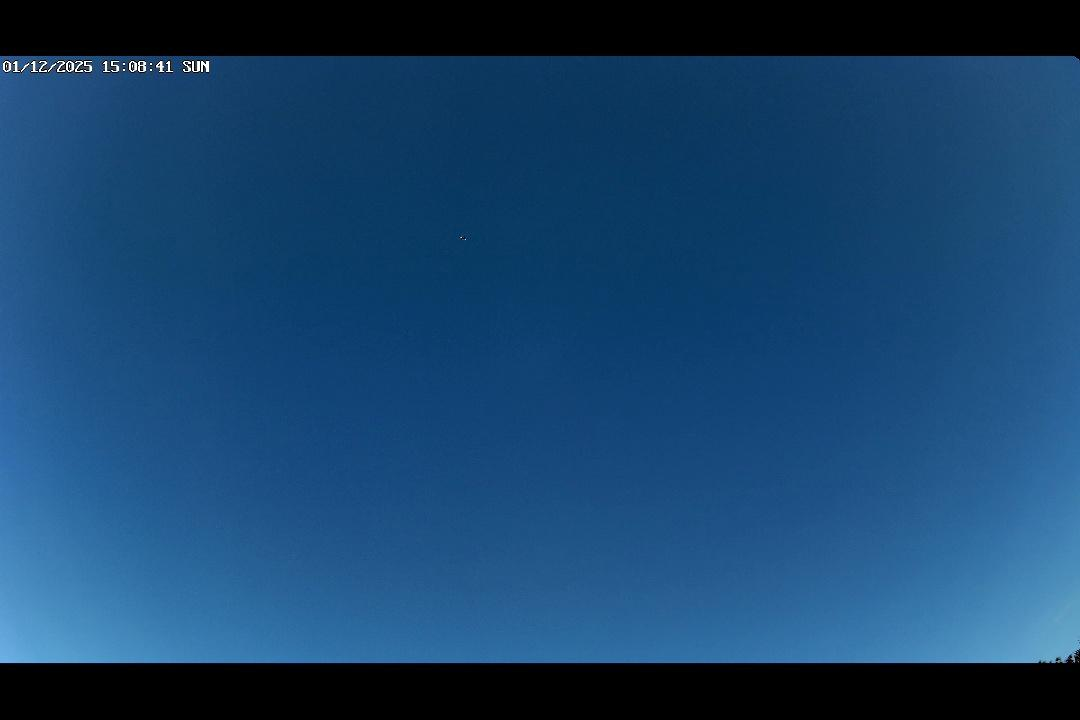WildLife: (454, 230, 473, 246)
